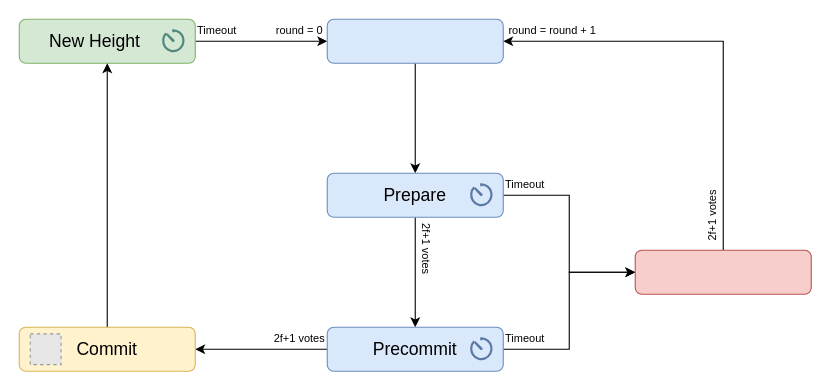
Some shapes in this 831 by 391 pixel diagram are drawn without their labels. Grey dashed boxes stand in for pictures. The centre of each missing label's shape, as x and y in pixels:
Change Proposer: [722,271]
Propose: [414,40]
